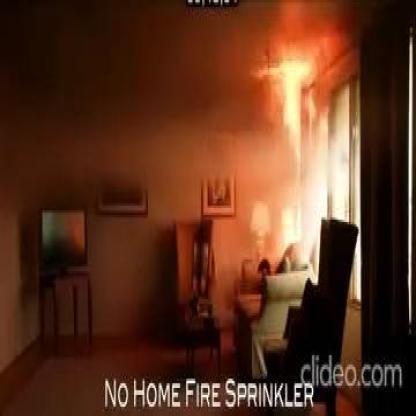fire: (264, 56, 302, 168), (280, 194, 300, 243), (302, 56, 316, 87)
